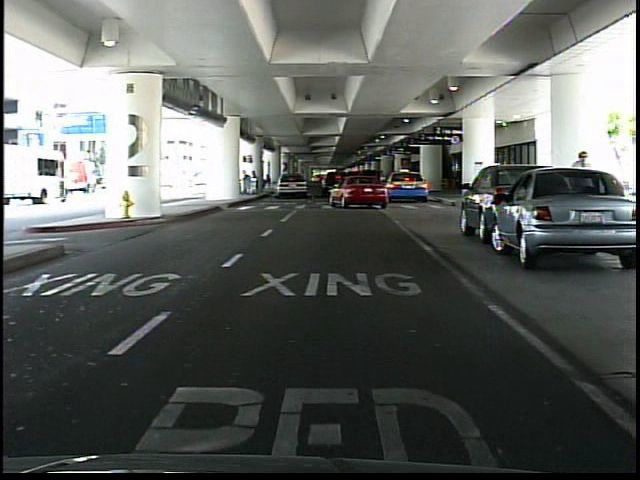person: (567, 148, 594, 234)
